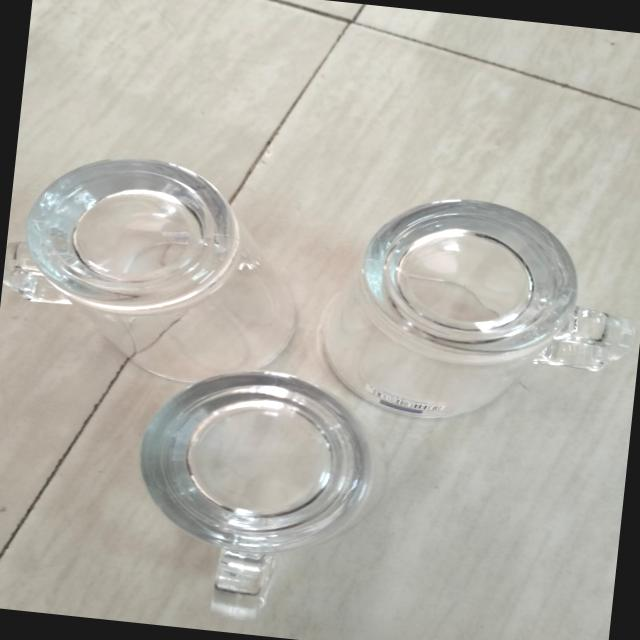glass-VX4N: (309, 183, 640, 439), (0, 143, 316, 388), (120, 355, 383, 623)
